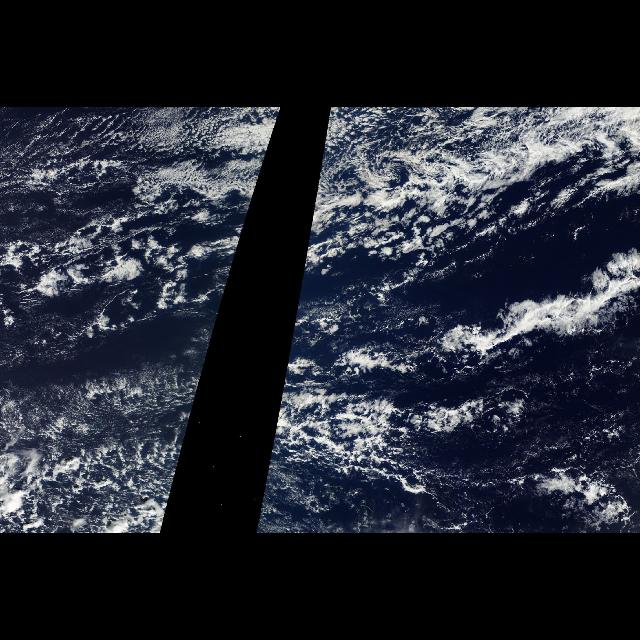Fish: (283, 235, 639, 455)
